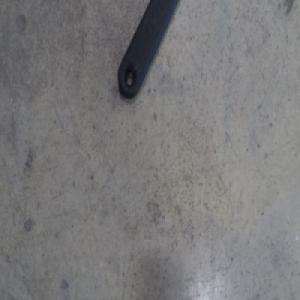AdjustableWrench: (118, 0, 178, 98)
